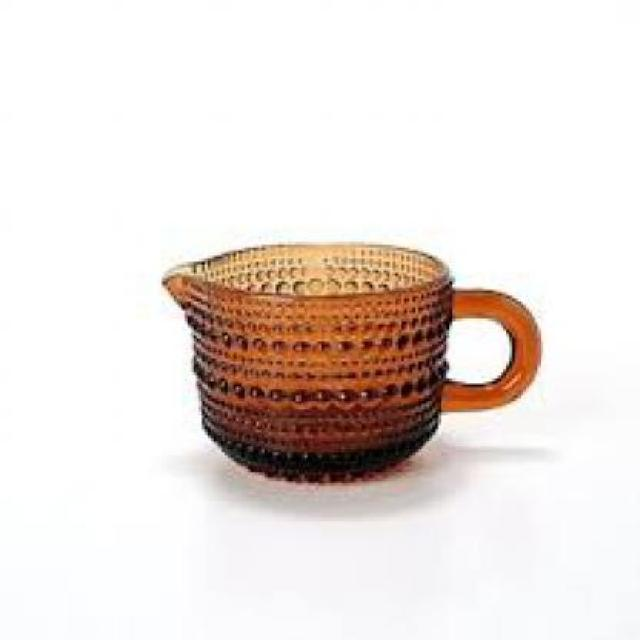kaca: (157, 242, 538, 483)
